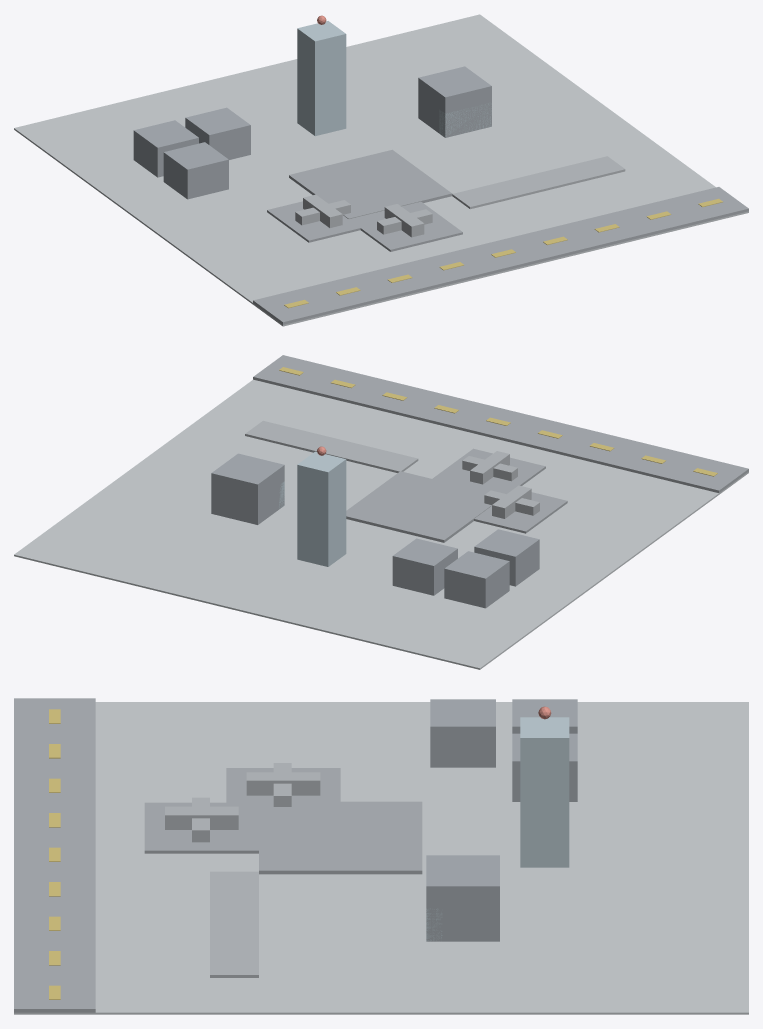
Rendered from stage_09.glb.
3 renders of one model, top to bottom at view 1: azimuth 30°, elevation 25°; view 2: azimuth 150°, elevation 25°; view 3: azimuth 270°, elevation 25°, orthographic. The views are drawn at different scales.
Visible parts, largest first — view 1: geometry_0; view 2: geometry_0; view 3: geometry_0.
Boxes of the visible parts, <box> form: geometry_0: <box>14,14,748,326</box>; geometry_0: <box>14,355,748,669</box>; geometry_0: <box>14,698,748,1014</box>.
Size of the model in its own units: 9 by 2.06 by 9.
